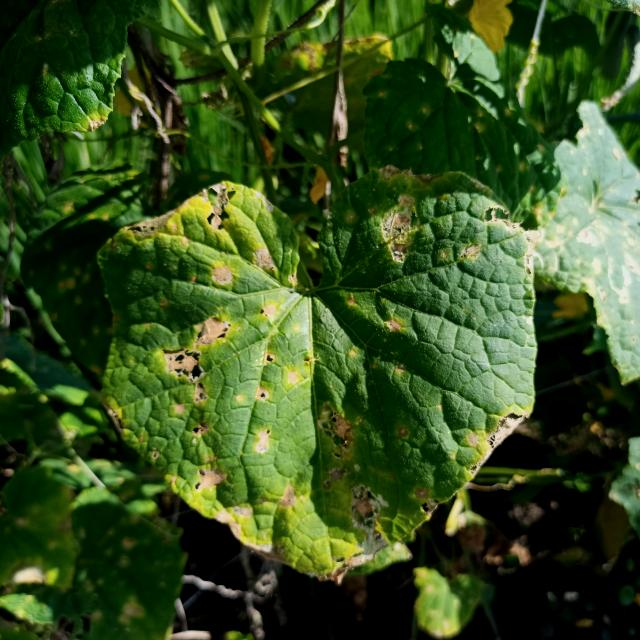disease_cucumber: (116, 177, 502, 557)
